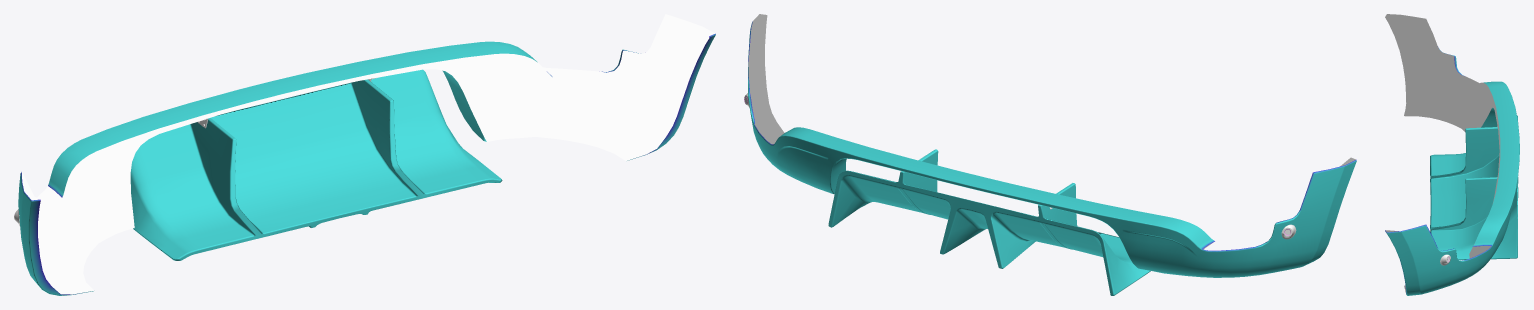
The model's file is Car_Mini_CountrymanJCW_2017_Diffuser_SetB.fbx.
3 renders of one model, left to right at view 1: azimuth 30°, elevation 25°; view 2: azimuth 150°, elevation 25°; view 3: azimuth 270°, elevation 25°, orthographic. The views are drawn at different scales.
Parts seen in each view (by area): view 1: Diffuser 6; view 2: Diffuser 6; view 3: Diffuser 6.
Boxes of the visible parts, x1,y1,x2,y2 form: Diffuser 6: [14, 14, 715, 295]; Diffuser 6: [744, 14, 1356, 295]; Diffuser 6: [1385, 14, 1519, 295].
Size of the model in its own units: 1.75 by 0.3234 by 0.455.
